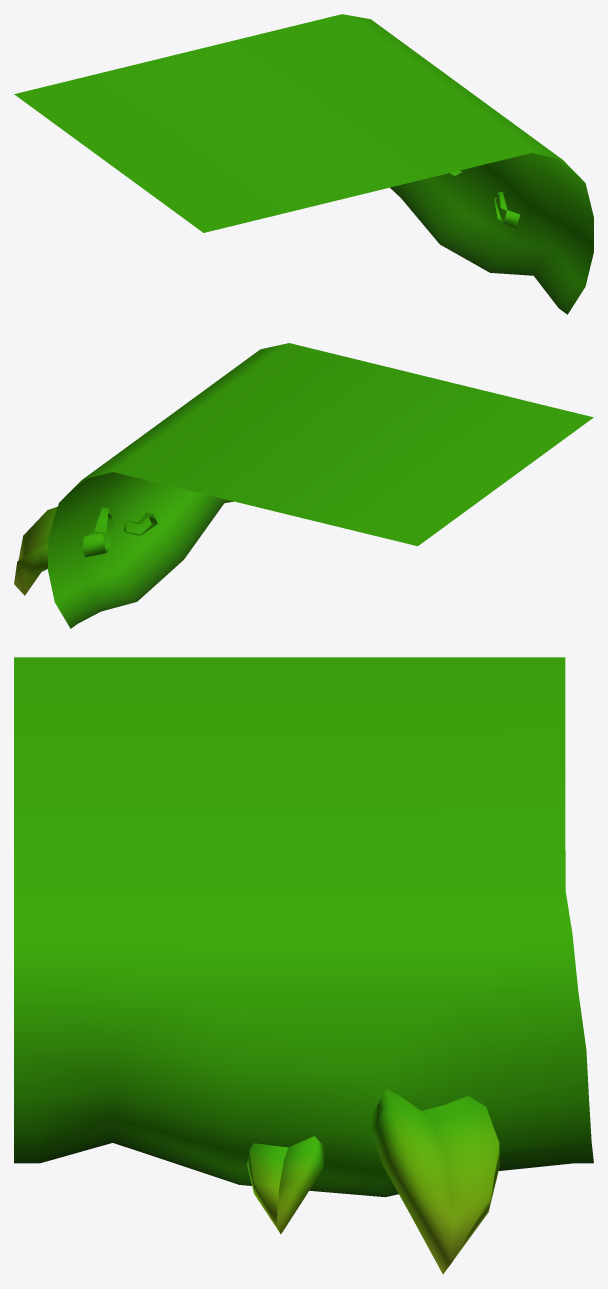
File: Surface_SideUpInner.fbx
The picture shows the model from 3 angles, top to bottom: view 1: azimuth 30°, elevation 25°; view 2: azimuth 150°, elevation 25°; view 3: azimuth 270°, elevation 25°; orthographic projection. The views are drawn at different scales.
Visible parts, largest first — view 1: Surface_SideUpInner; view 2: Surface_SideUpInner; view 3: Surface_SideUpInner.
Boxes of the visible parts, x1,y1,x2,y2 form: Surface_SideUpInner: [14, 14, 593, 314]; Surface_SideUpInner: [14, 343, 593, 628]; Surface_SideUpInner: [14, 657, 593, 1274].
Size of the model in its own units: 2585 by 1031 by 1886.
